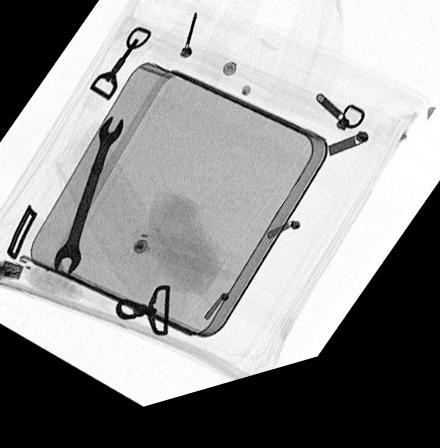Wrench: (53, 120, 125, 282)
